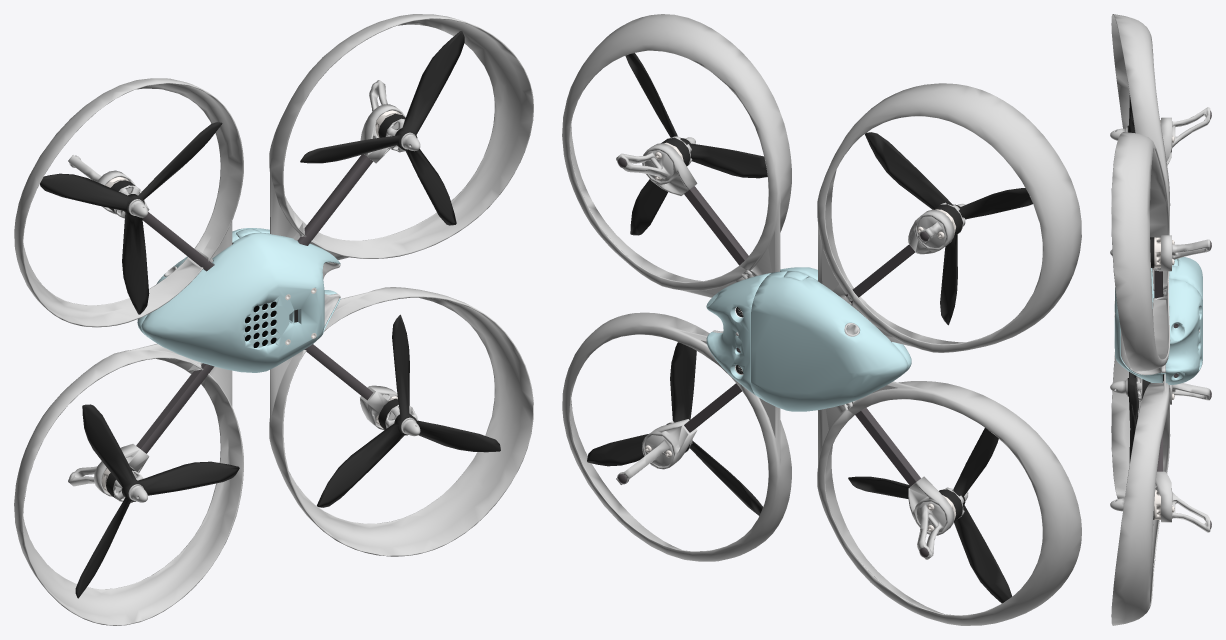
File: spiri.glb
The picture shows the model from 3 angles, left to right: view 1: azimuth 30°, elevation 25°; view 2: azimuth 150°, elevation 25°; view 3: azimuth 270°, elevation 25°; orthographic projection. The views are drawn at different scales.
Visible parts, largest first — view 1: Spiri_Spiri_spiri_whiteplastic, Spiri_Spiri_spiri_blueplastic, Propeller3_Propeller3_spiri_blackplastic, Propeller4_Propeller4_spiri_blackplastic, Propeller2_Propeller2_spiri_blackplastic, Propeller1_Propeller1_spiri_blackplastic, Spiri_Spiri_spiri_greybeams, Spiri_Spiri_spiri_blackplastic; view 2: Spiri_Spiri_spiri_whiteplastic, Spiri_Spiri_spiri_blueplastic, Propeller3_Propeller3_spiri_blackplastic, Spiri_Spiri_spiri_greybeams, Propeller4_Propeller4_spiri_blackplastic, Propeller1_Propeller1_spiri_blackplastic, Propeller2_Propeller2_spiri_blackplastic, Spiri_Spiri_spiri_blackplastic; view 3: Spiri_Spiri_spiri_whiteplastic, Spiri_Spiri_spiri_blueplastic, Spiri_Spiri_spiri_brushedsteel, Spiri_Spiri_spiri_greybeams, Propeller4_Propeller4_spiri_blackplastic, Spiri_Spiri_spiri_blackplastic, Propeller1_Propeller1_spiri_blackplastic.
Part boxes in pixels (x1,y1,x2,y2): Spiri_Spiri_spiri_whiteplastic: (14, 14, 533, 625); Spiri_Spiri_spiri_blueplastic: (137, 228, 340, 372); Propeller3_Propeller3_spiri_blackplastic: (40, 122, 222, 314); Propeller4_Propeller4_spiri_blackplastic: (75, 404, 239, 598); Propeller2_Propeller2_spiri_blackplastic: (300, 31, 464, 225); Propeller1_Propeller1_spiri_blackplastic: (317, 314, 500, 507); Spiri_Spiri_spiri_greybeams: (136, 154, 373, 453); Spiri_Spiri_spiri_blackplastic: (106, 113, 405, 499); Spiri_Spiri_spiri_whiteplastic: (562, 14, 1081, 625); Spiri_Spiri_spiri_blueplastic: (706, 267, 911, 411); Propeller3_Propeller3_spiri_blackplastic: (865, 132, 1032, 325); Spiri_Spiri_spiri_greybeams: (618, 158, 928, 557); Propeller4_Propeller4_spiri_blackplastic: (848, 428, 1012, 603); Propeller1_Propeller1_spiri_blackplastic: (587, 342, 762, 515); Propeller2_Propeller2_spiri_blackplastic: (625, 53, 767, 235); Spiri_Spiri_spiri_blackplastic: (661, 137, 962, 521); Spiri_Spiri_spiri_whiteplastic: (1110, 14, 1210, 625); Spiri_Spiri_spiri_blueplastic: (1114, 257, 1202, 384); Spiri_Spiri_spiri_brushedsteel: (1114, 120, 1174, 519); Spiri_Spiri_spiri_greybeams: (1154, 110, 1211, 529); Propeller4_Propeller4_spiri_blackplastic: (1127, 368, 1138, 427); Spiri_Spiri_spiri_blackplastic: (1142, 237, 1163, 519); Propeller1_Propeller1_spiri_blackplastic: (1129, 404, 1135, 462).
Bounding box in the file's own units: 0.4754 × 0.4754 × 0.0925.
